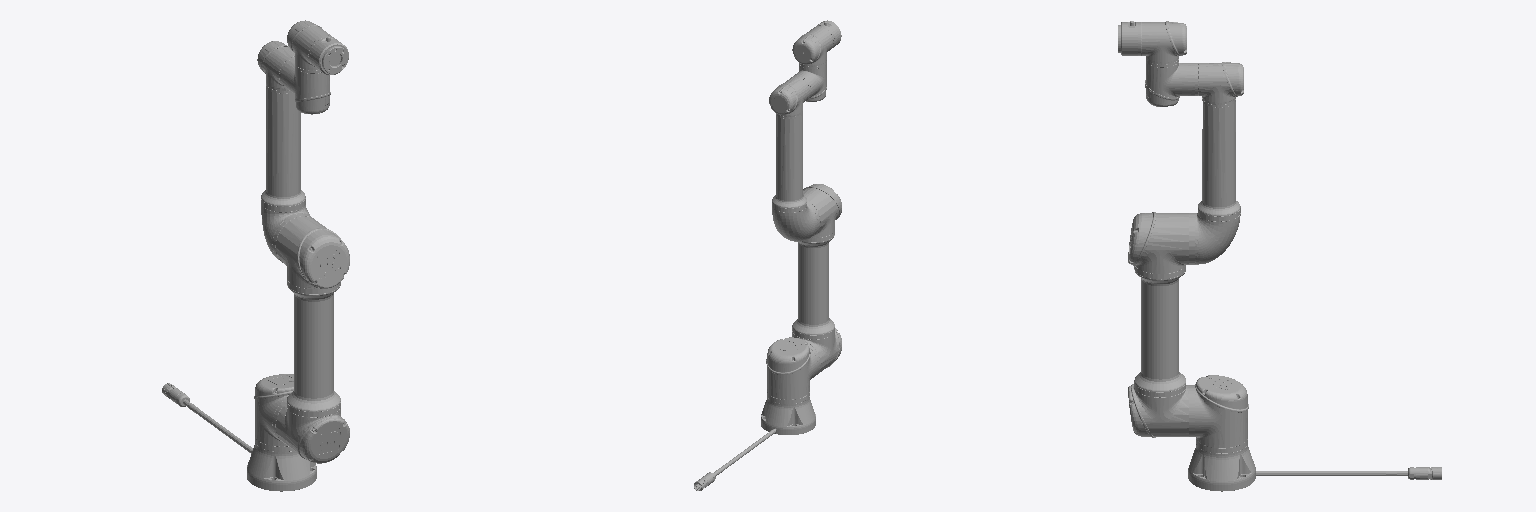
robot.urdf — ur5e_description:
<?xml version="1.0" encoding="utf-8"?>
<!-- This URDF was automatically created by SolidWorks to URDF Exporter! Originally created by [author] ([email redacted]) 
     Commit Version: 1.6.0-4-g7f85cfe  Build Version: 1.6.7995.38578
     For more information, please see http://wiki.ros.org/sw_urdf_exporter -->
<robot
  name="ur5e_description">
  <link
    name="base_link">
    <inertial>
      <origin
        xyz="1.4308E-05 0.038281 0.056105"
        rpy="0 0 0" />
      <mass
        value="0.76653" />
      <inertia
        ixx="0.0016928"
        ixy="-8.9011E-08"
        ixz="5.6632E-07"
        iyy="0.0012527"
        iyz="2.3847E-05"
        izz="0.0020813" />
    </inertial>
    <visual>
      <origin
        xyz="0 0 0"
        rpy="0 0 0" />
      <geometry>
        <mesh
          filename="package://ur5e_description/meshes/base_link.STL" />
      </geometry>
      <material
        name="">
        <color
          rgba="0.69804 0.69804 0.69804 1" />
      </material>
    </visual>
    <collision>
      <origin
        xyz="0 0 0"
        rpy="0 0 0" />
      <geometry>
        <mesh
          filename="package://ur5e_description/meshes/base_link.STL" />
      </geometry>
    </collision>
  </link>
  <link
    name="link1">
    <inertial>
      <origin
        xyz="-3.5494E-07 -0.010911 0.00011705"
        rpy="0 0 0" />
      <mass
        value="1.6078" />
      <inertia
        ixx="0.0039246"
        ixy="-3.6278E-08"
        ixz="-8.2601E-09"
        iyy="0.0034478"
        iyz="9.4696E-05"
        izz="0.0033426" />
    </inertial>
    <visual>
      <origin
        xyz="0 0 0"
        rpy="0 0 0" />
      <geometry>
        <mesh
          filename="package://ur5e_description/meshes/link1.STL" />
      </geometry>
      <material
        name="">
        <color
          rgba="0.69804 0.69804 0.69804 1" />
      </material>
    </visual>
    <collision>
      <origin
        xyz="0 0 0"
        rpy="0 0 0" />
      <geometry>
        <mesh
          filename="package://ur5e_description/meshes/link1.STL" />
      </geometry>
    </collision>
  </link>
  <joint
    name="joint1"
    type="revolute">
    <origin
      xyz="0 0 0.1623"
      rpy="0 0 0" />
    <parent
      link="base_link" />
    <child
      link="link1" />
    <axis
      xyz="0 0 -1" />
    <limit
      lower="-3.14"
      upper="3.14"
      effort="30"
      velocity="5" />
  </joint>
  <link
    name="link2">
    <inertial>
      <origin
        xyz="0.2125 1.6585E-06 0.00010918"
        rpy="0 0 0" />
      <mass
        value="3.4818" />
      <inertia
        ixx="0.0074186"
        ixy="1.8368E-06"
        ixz="-3.3392E-07"
        iyy="0.14143"
        iyz="2.797E-07"
        izz="0.14027" />
    </inertial>
    <visual>
      <origin
        xyz="0 0 0"
        rpy="0 0 0" />
      <geometry>
        <mesh
          filename="package://ur5e_description/meshes/link2.STL" />
      </geometry>
      <material
        name="">
        <color
          rgba="0.69804 0.69804 0.69804 1" />
      </material>
    </visual>
    <collision>
      <origin
        xyz="0 0 0"
        rpy="0 0 0" />
      <geometry>
        <mesh
          filename="package://ur5e_description/meshes/link2.STL" />
      </geometry>
    </collision>
  </link>
  <joint
    name="joint2"
    type="revolute">
    <origin
      xyz="0 -0.1378 0"
      rpy="1.5708 -1.5708 0" />
    <parent
      link="link1" />
    <child
      link="link2" />
    <axis
      xyz="0 0 1" />
    <limit
      lower="-3.14"
      upper="3.14"
      effort="30"
      velocity="5" />
  </joint>
  <link
    name="link3">
    <inertial>
      <origin
        xyz="0.17967 -9.4513E-06 -0.12413"
        rpy="0 0 0" />
      <mass
        value="3.7588" />
      <inertia
        ixx="0.0039156"
        ixy="-1.1266E-05"
        ixz="0.0033634"
        iyy="0.068342"
        iyz="1.1187E-05"
        izz="0.067805" />
    </inertial>
    <visual>
      <origin
        xyz="0 0 0"
        rpy="0 0 0" />
      <geometry>
        <mesh
          filename="package://ur5e_description/meshes/link3.STL" />
      </geometry>
      <material
        name="">
        <color
          rgba="0.69804 0.69804 0.69804 1" />
      </material>
    </visual>
    <collision>
      <origin
        xyz="0 0 0"
        rpy="0 0 0" />
      <geometry>
        <mesh
          filename="package://ur5e_description/meshes/link3.STL" />
      </geometry>
    </collision>
  </link>
  <joint
    name="joint3"
    type="revolute">
    <origin
      xyz="0.425 0 0"
      rpy="0 0.011472 0" />
    <parent
      link="link2" />
    <child
      link="link3" />
    <axis
      xyz="-0.011472 0 0.99993" />
    <limit
      lower="-3.14"
      upper="3.14"
      effort="30"
      velocity="5" />
  </joint>
  <link
    name="link4">
    <inertial>
      <origin
        xyz="7.9407E-06 -0.0025972 -0.018321"
        rpy="0 0 0" />
      <mass
        value="0.65799" />
      <inertia
        ixx="0.0010918"
        ixy="1.0879E-07"
        ixz="-2.6762E-07"
        iyy="0.00088439"
        iyz="2.5898E-05"
        izz="0.00068621" />
    </inertial>
    <visual>
      <origin
        xyz="0 0 0"
        rpy="0 0 0" />
      <geometry>
        <mesh
          filename="package://ur5e_description/meshes/link4.STL" />
      </geometry>
      <material
        name="">
        <color
          rgba="0.69804 0.69804 0.69804 1" />
      </material>
    </visual>
    <collision>
      <origin
        xyz="0 0 0"
        rpy="0 0 0" />
      <geometry>
        <mesh
          filename="package://ur5e_description/meshes/link4.STL" />
      </geometry>
    </collision>
  </link>
  <joint
    name="joint4"
    type="revolute">
    <origin
      xyz="0.39228 0 0"
      rpy="0.011472 0 -1.5708" />
    <parent
      link="link3" />
    <child
      link="link4" />
    <axis
      xyz="0 0 1" />
    <limit
      lower="-3.14"
      upper="3.14"
      effort="30"
      velocity="5" />
  </joint>
  <link
    name="link5">
    <inertial>
      <origin
        xyz="-8.7675E-06 0.0031539 -0.0076987"
        rpy="0 0 0" />
      <mass
        value="0.54031" />
      <inertia
        ixx="0.00069825"
        ixy="1.0164E-07"
        ixz="2.3674E-07"
        iyy="0.00049174"
        iyz="-7.4858E-06"
        izz="0.00060352" />
    </inertial>
    <visual>
      <origin
        xyz="0 0 0"
        rpy="0 0 0" />
      <geometry>
        <mesh
          filename="package://ur5e_description/meshes/link5.STL" />
      </geometry>
      <material
        name="">
        <color
          rgba="0.69804 0.69804 0.69804 1" />
      </material>
    </visual>
    <collision>
      <origin
        xyz="0 0 0"
        rpy="0 0 0" />
      <geometry>
        <mesh
          filename="package://ur5e_description/meshes/link5.STL" />
      </geometry>
    </collision>
  </link>
  <joint
    name="joint5"
    type="revolute">
    <origin
      xyz="0 0.0997 0"
      rpy="-1.5708 0 0" />
    <parent
      link="link4" />
    <child
      link="link5" />
    <axis
      xyz="0 0 1" />
    <limit
      lower="-3.14"
      upper="3.14"
      effort="30"
      velocity="5" />
  </joint>
  <link
    name="link6">
    <inertial>
      <origin
        xyz="1.1786E-09 0.0004813 -0.028276"
        rpy="0 0 0" />
      <mass
        value="0.21893" />
      <inertia
        ixx="0.00012067"
        ixy="-1.8028E-11"
        ixz="-6.3482E-12"
        iyy="0.00012138"
        iyz="-1.6104E-07"
        izz="0.00015086" />
    </inertial>
    <visual>
      <origin
        xyz="0 0 0"
        rpy="0 0 0" />
      <geometry>
        <mesh
          filename="package://ur5e_description/meshes/link6.STL" />
      </geometry>
      <material
        name="">
        <color
          rgba="0.69804 0.69804 0.69804 1" />
      </material>
    </visual>
    <collision>
      <origin
        xyz="0 0 0"
        rpy="0 0 0" />
      <geometry>
        <mesh
          filename="package://ur5e_description/meshes/link6.STL" />
      </geometry>
    </collision>
  </link>
  <joint
    name="joint6"
    type="revolute">
    <origin
      xyz="0 -0.0996 -0.00049929"
      rpy="1.5708 0 0" />
    <parent
      link="link5" />
    <child
      link="link6" />
    <axis
      xyz="0 0 1" />
    <limit
      lower="-3.14"
      upper="3.14"
      effort="30"
      velocity="5" />
  </joint>
  <mujoco>
    <compiler balanceinertia="true" discardvisual="false" meshdir="../meshes"/>
  </mujoco>
</robot>

--- What the picture shows (computed from the rendered views, not written in the file) ---
Views: 3 orthographic renders of the robot side by side, from view 1: azimuth 30°, elevation 25°; view 2: azimuth 150°, elevation 25°; view 3: azimuth 270°, elevation 25°.
Model ur5e_description with 7 links and 6 joints (6 revolute), rooted at base_link, posed every joint at zero.
Visible links, largest first — view 1: link2, link3, base_link, link1, link4, link5, link6; view 2: link2, link3, link1, base_link, link5, link4; view 3: link2, link3, base_link, link1, link4, link5, link6.
Link boxes in pixels (left/top/right/bottom): link2: left=276, top=216, right=349, bottom=463; link3: left=257, top=41, right=313, bottom=262; base_link: left=162, top=383, right=316, bottom=491; link1: left=254, top=374, right=293, bottom=445; link4: left=279, top=56, right=330, bottom=114; link5: left=287, top=20, right=330, bottom=73; link6: left=309, top=35, right=348, bottom=74; link2: left=792, top=184, right=841, bottom=374; link3: left=769, top=77, right=819, bottom=241; link1: left=766, top=337, right=820, bottom=399; base_link: left=694, top=392, right=815, bottom=490; link5: left=792, top=27, right=832, bottom=68; link4: left=791, top=64, right=826, bottom=101; link2: left=1128, top=212, right=1188, bottom=437; link3: left=1189, top=62, right=1243, bottom=264; base_link: left=1188, top=439, right=1441, bottom=491; link1: left=1189, top=375, right=1248, bottom=447; link4: left=1145, top=62, right=1197, bottom=106; link5: left=1142, top=21, right=1186, bottom=67; link6: left=1118, top=21, right=1141, bottom=55.
Size in the robot's own frame: 0.151 by 0.7243 by 1.13 metres.
Meshes: 7 distinct files referenced, 7 mesh visuals loaded (7 binary STL).